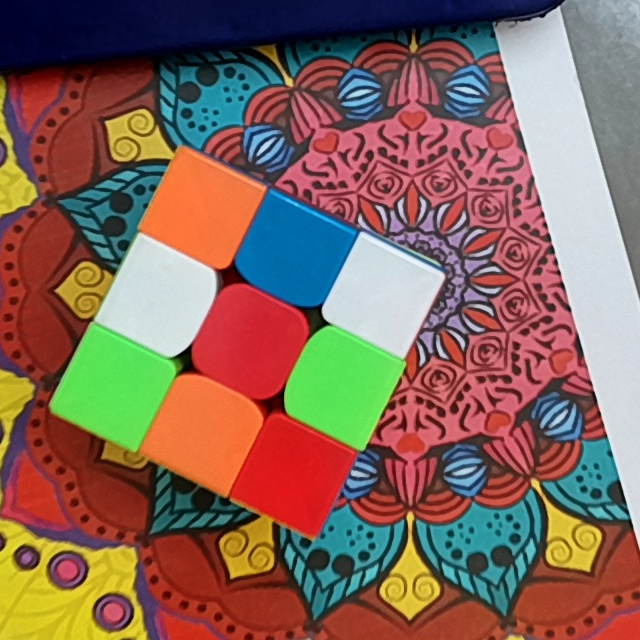tile: (214, 307, 284, 377), (79, 354, 148, 422), (128, 263, 195, 332), (305, 354, 375, 420), (168, 176, 239, 241), (258, 219, 329, 284), (259, 442, 326, 509), (168, 401, 238, 464), (351, 262, 418, 325)
